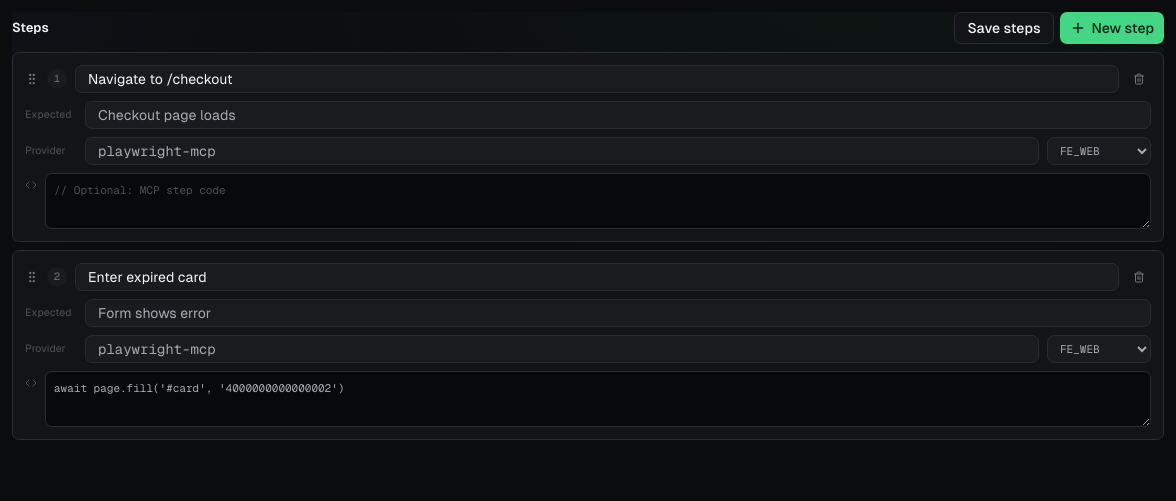
Scenario: StepEditor › shows error message when PATCH fails
Click the button with test id "step-save-btn" at (1004, 28), box [954,12,1054,44]
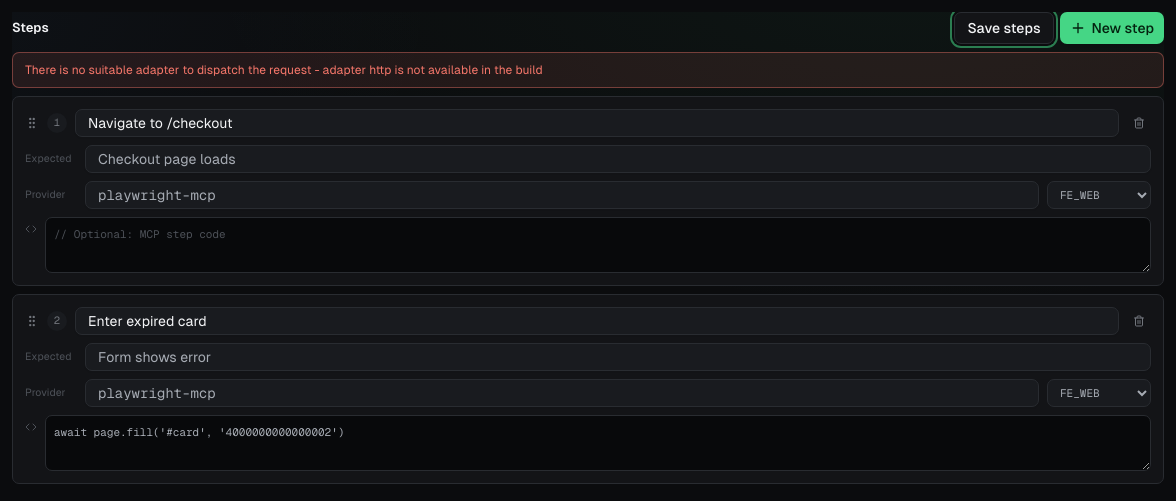
Now the text with test id "step-editor-error" is shown, box [12,52,1164,88]
